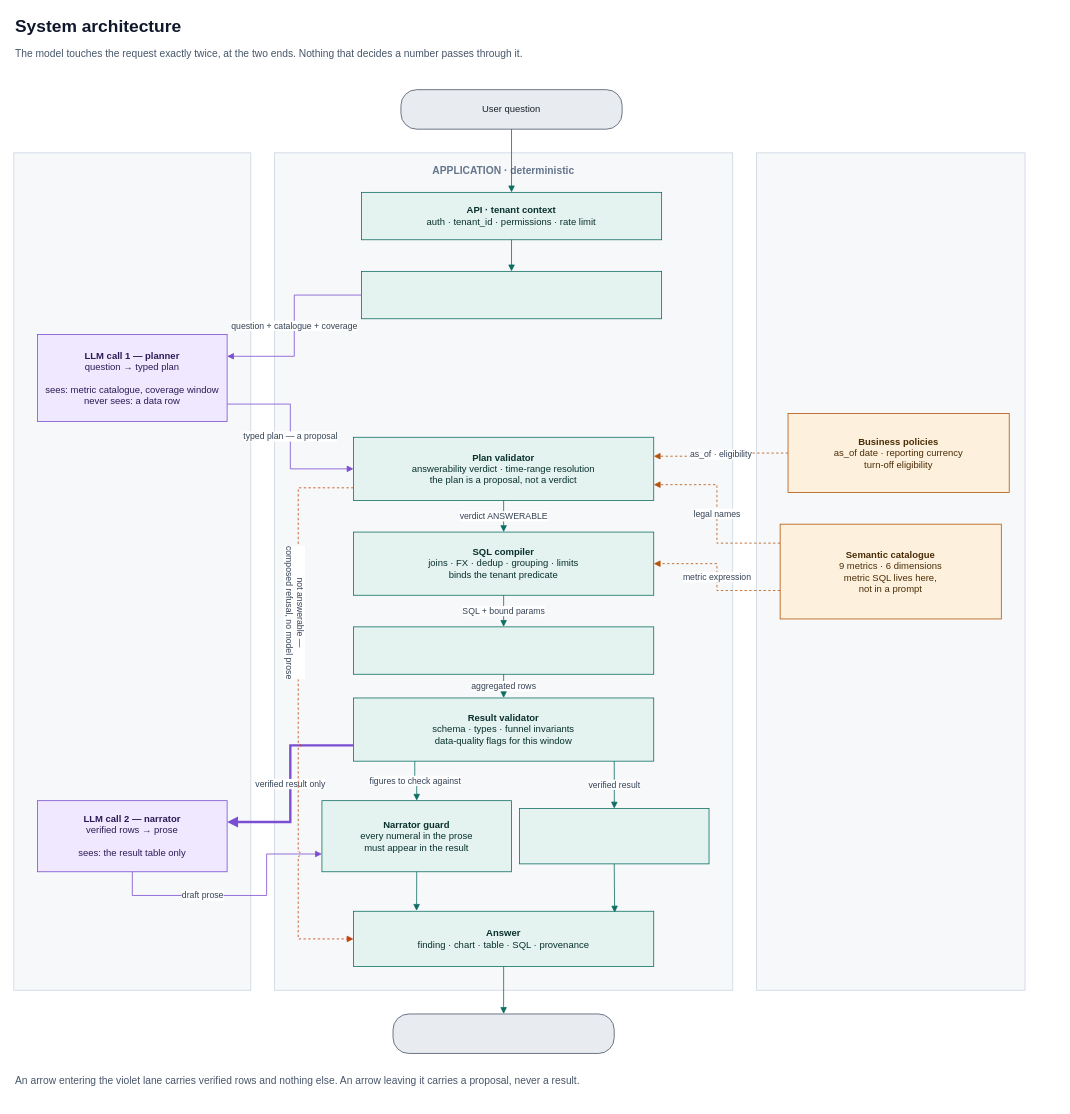
Some shapes in this 1070 by 1114 pixel diagram are drawn without their labels. The box of each missing label's shape, as (x1, y1, x2, y2) in pixels:
Analytics execution read-only, parameterised: (353, 626, 654, 674)
Answer to user: (392, 1013, 614, 1053)
Chart selection by rule, from the plan shape: (519, 808, 709, 864)
GOVERNED · versioned definitions: (756, 152, 1025, 990)
MODEL · probabilistic: (13, 152, 251, 990)
Orchestrator a hand-written loop, no framework: (361, 271, 662, 319)
